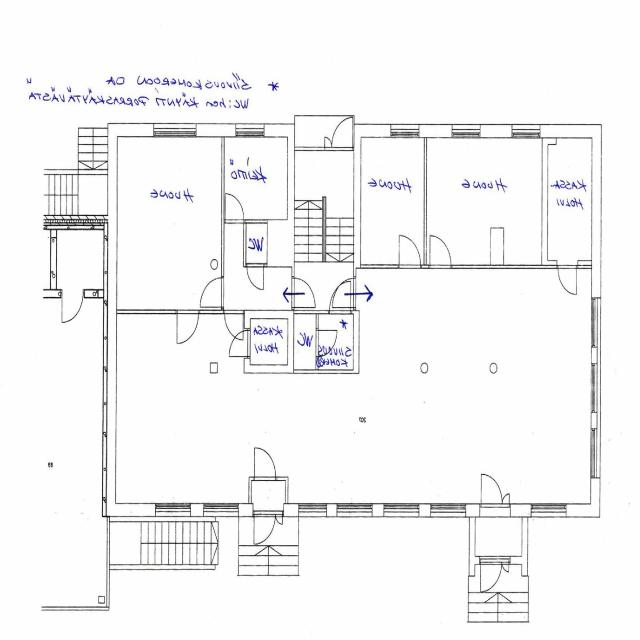door: (254, 504, 276, 546), (481, 474, 502, 517), (481, 556, 502, 594), (254, 446, 276, 481), (177, 310, 199, 344), (329, 280, 351, 314), (430, 235, 451, 268), (399, 235, 420, 268), (333, 278, 356, 308), (332, 117, 352, 151), (558, 260, 577, 295), (201, 278, 224, 306), (292, 278, 314, 307), (227, 330, 250, 356), (225, 310, 243, 339), (225, 194, 243, 223), (316, 330, 336, 356), (247, 263, 264, 290), (275, 503, 283, 528), (502, 493, 510, 517), (502, 556, 509, 574), (324, 136, 332, 150)
